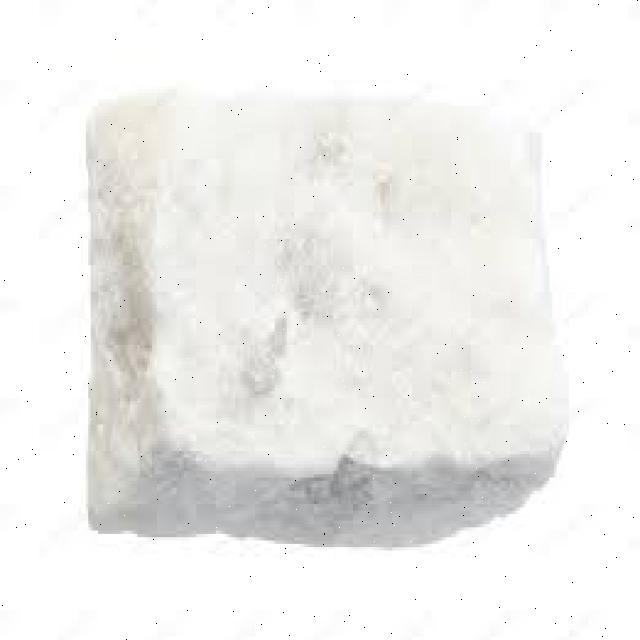Metamorphic: (74, 70, 594, 557)
